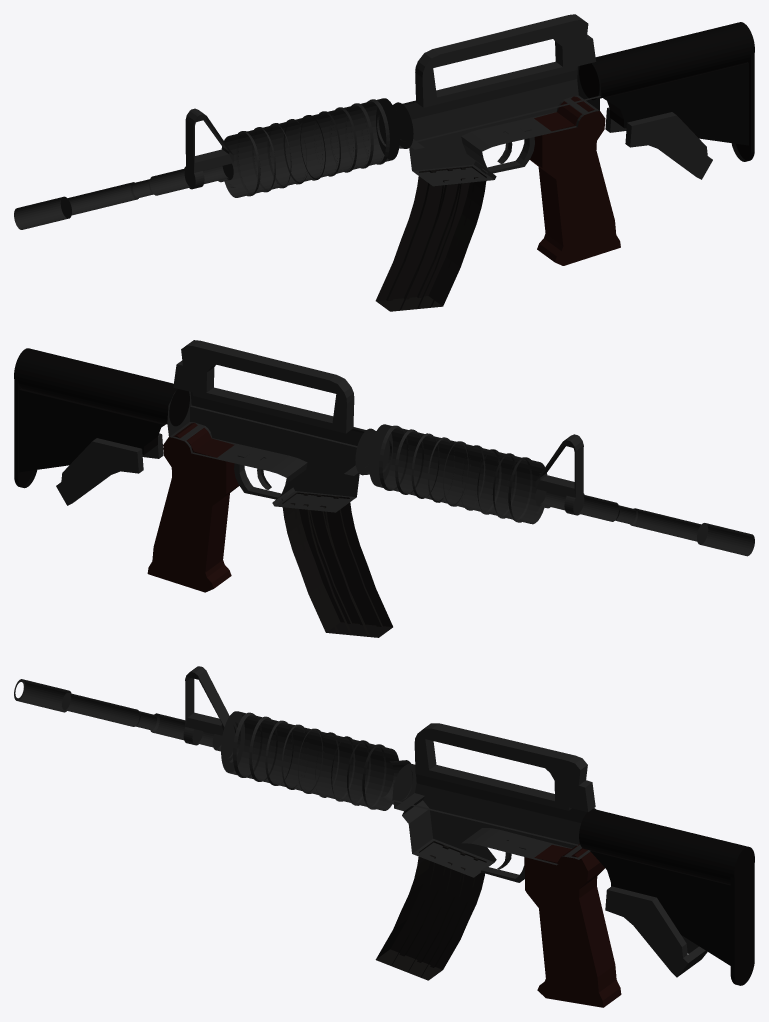
3 views of the same model, one above another, from view 1: azimuth 30°, elevation 25°; view 2: azimuth 150°, elevation 25°; view 3: azimuth 330°, elevation 25° (orthographic).
Parts seen in each view (by area): view 1: M4A1.007; view 2: M4A1.007; view 3: M4A1.007.
Part boxes in pixels (left/top/right/bottom): M4A1.007: left=14, top=14, right=754, bottom=311; M4A1.007: left=14, top=340, right=754, bottom=637; M4A1.007: left=14, top=666, right=754, bottom=1007.
Size of the model in its own units: 5059 by 1671 by 306.
